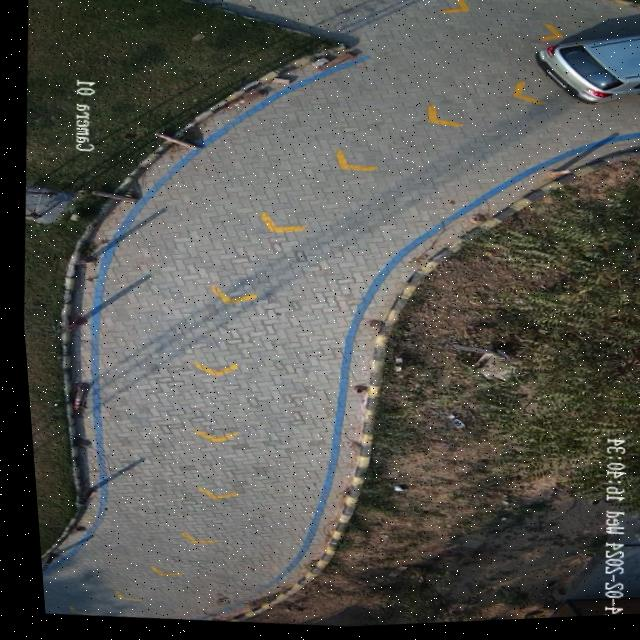car: (534, 40, 640, 110)
